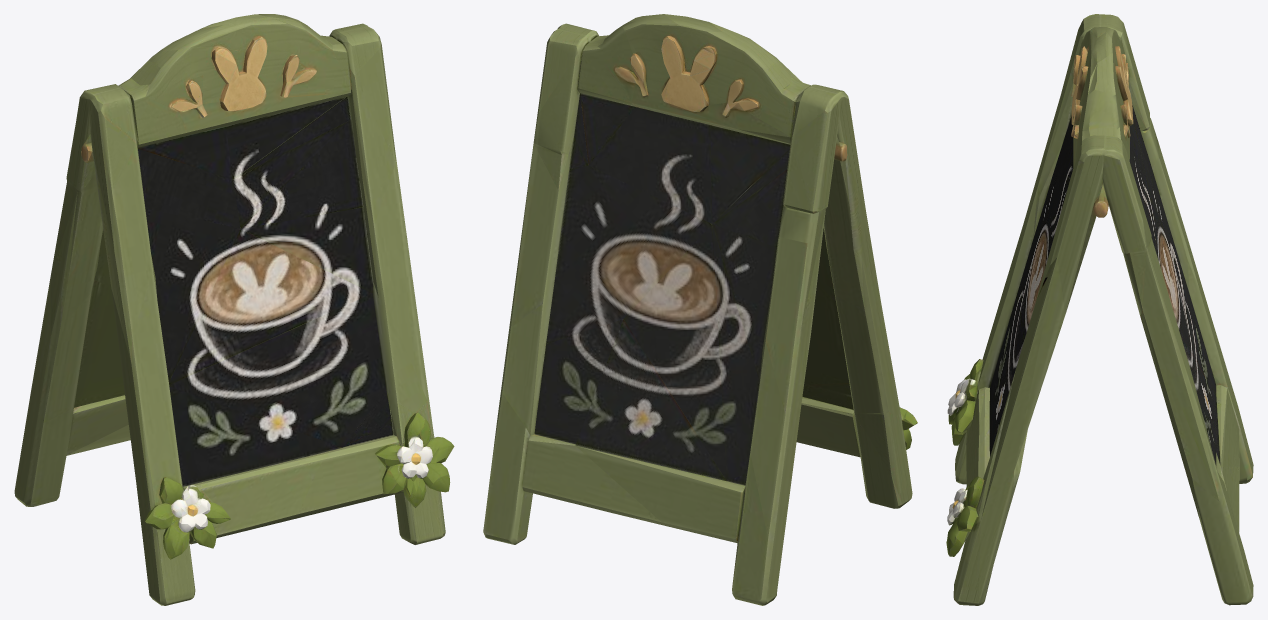
File: cafe-sign.glb
3 renders of one model, left to right at view 1: azimuth 30°, elevation 25°; view 2: azimuth 150°, elevation 25°; view 3: azimuth 270°, elevation 25°, orthographic.
Parts seen in each view (by area): view 1: output_unwrapped; view 2: output_unwrapped; view 3: output_unwrapped.
Boxes of the visible parts, x1,y1,x2,y2 form: output_unwrapped: [14, 14, 454, 605]; output_unwrapped: [483, 14, 917, 605]; output_unwrapped: [946, 14, 1253, 605].
Bounding box in the file's own units: 1.23 × 1.9 × 1.07.
1 material, 1 textured.
